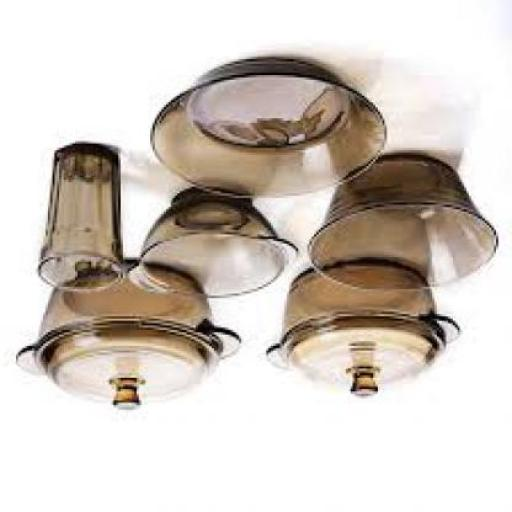glass: (20, 262, 243, 412), (153, 62, 389, 200), (311, 155, 501, 295), (271, 264, 464, 401), (132, 187, 302, 300), (39, 143, 125, 296)
